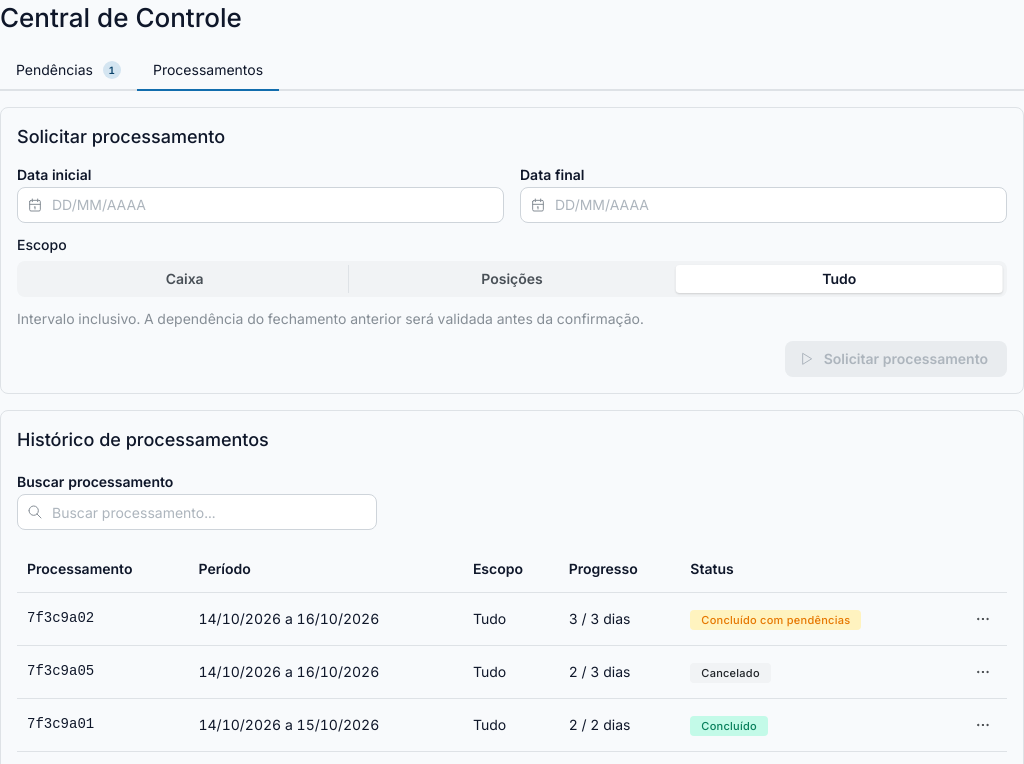
Scenario: Processamentos: details (§11.1, §10.4) › §11.1 shows a completed job without the unpublished notice or actions
The image size is (1024, 764).
Click the button named "Ações do processamento": {"x": 983, "y": 725} [969,711,997,739]
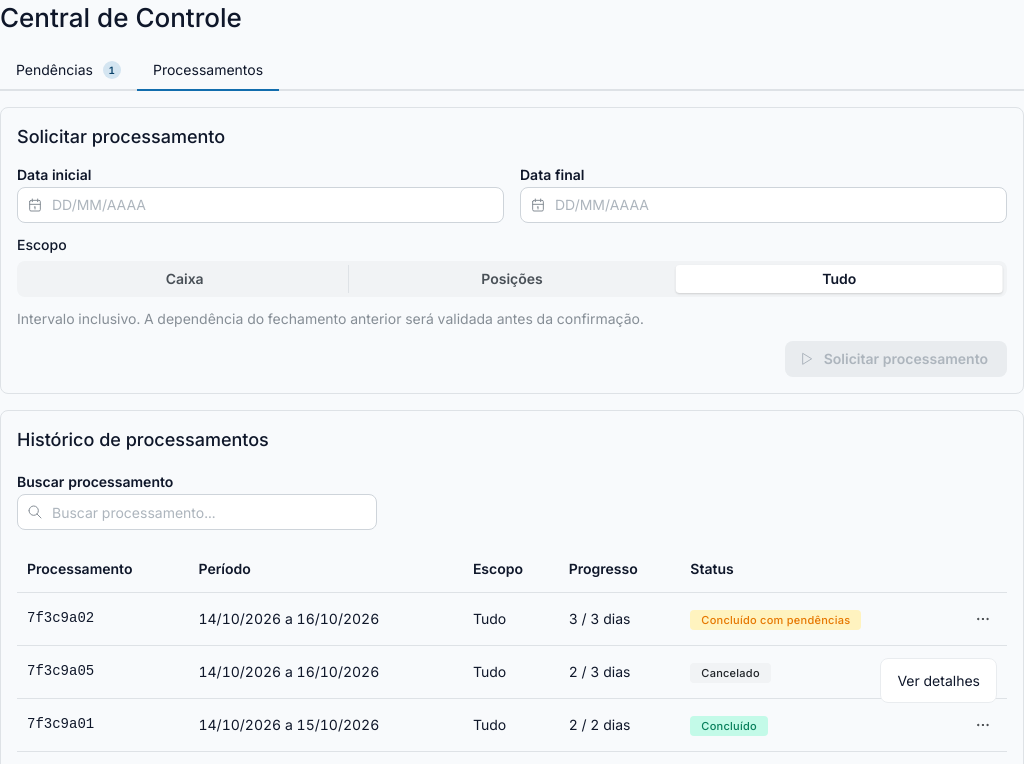
Click the menu item "Ver detalhes": {"x": 939, "y": 680} [885,663,992,698]
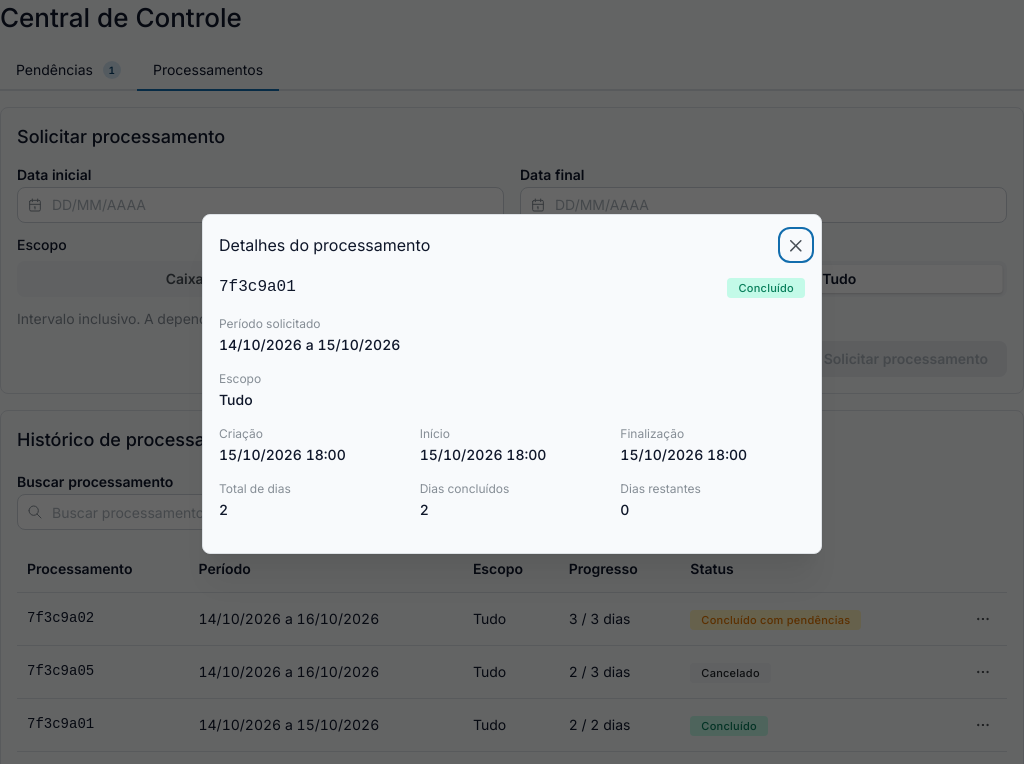
Expected: the message reads "Concluído", [738,281,794,295]
